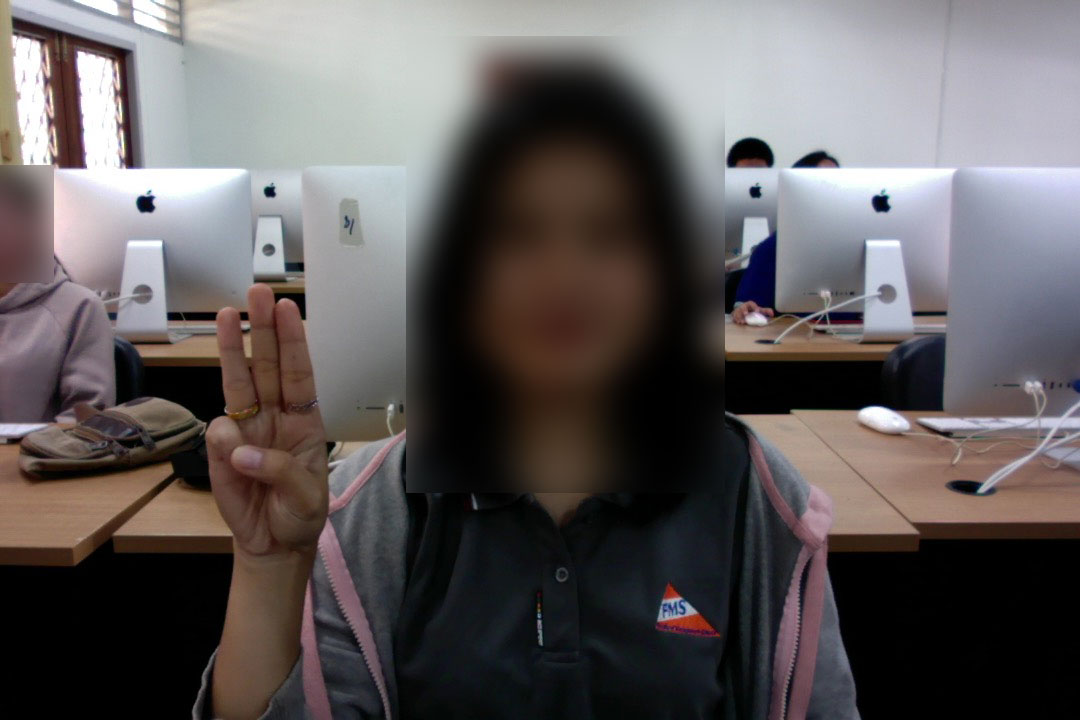wor: (193, 279, 347, 569)
